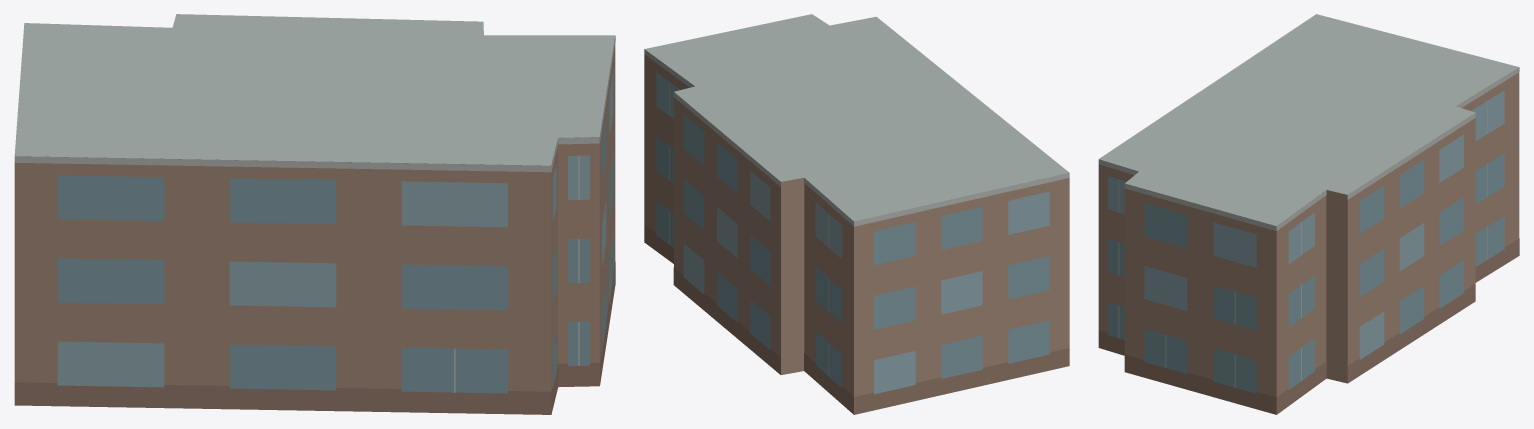
Rendered from survey-upis-32525325.glb.
3 views of the same model, side by side, from view 1: azimuth 30°, elevation 25°; view 2: azimuth 150°, elevation 25°; view 3: azimuth 270°, elevation 25° (orthographic). The views are drawn at different scales.
Parts seen in each view (by area): view 1: survey-upis-32525325.tmp; view 2: survey-upis-32525325.tmp; view 3: survey-upis-32525325.tmp.
Boxes of the visible parts, x1,y1,x2,y2 form: survey-upis-32525325.tmp: (14,14,615,414); survey-upis-32525325.tmp: (644,14,1069,414); survey-upis-32525325.tmp: (1098,14,1519,414).
Bounding box in the file's own units: 22.08 × 9.15 × 18.51.
